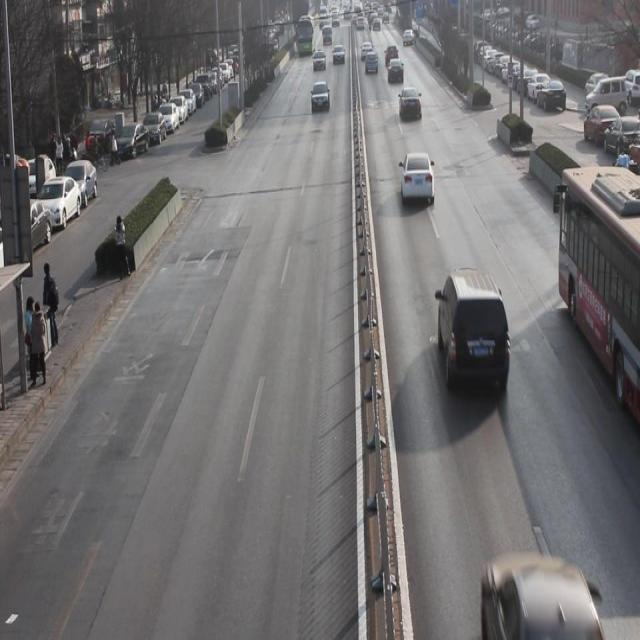car: (436, 273, 511, 398), (400, 152, 436, 207), (399, 86, 423, 121), (311, 81, 330, 112)
van: (559, 161, 640, 414)
